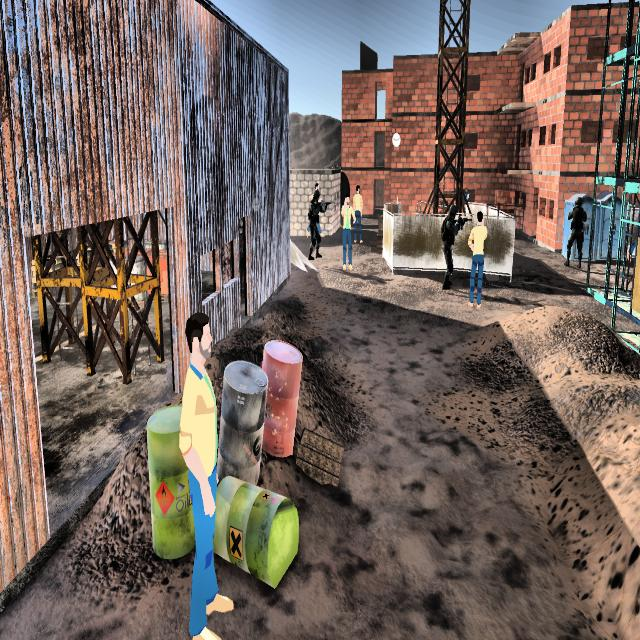bad: (437, 198, 463, 294), (562, 190, 591, 268), (305, 182, 327, 262)
good: (162, 302, 245, 640), (466, 200, 491, 314), (340, 192, 357, 266), (354, 178, 366, 243)
